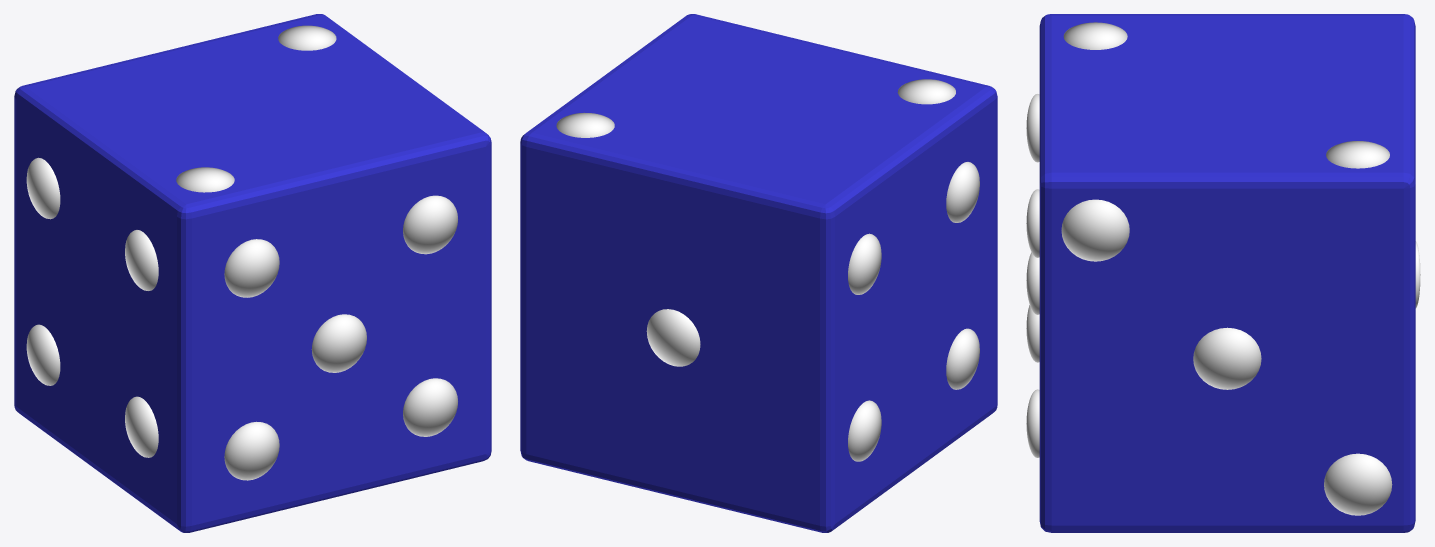
File: Dice.fbx
3 renders of one model, left to right at view 1: azimuth 30°, elevation 25°; view 2: azimuth 150°, elevation 25°; view 3: azimuth 270°, elevation 25°, orthographic. The views are drawn at different scales.
Parts seen in each view (by area): view 1: imagetostl_mesh0, imagetostl_mesh17, imagetostl_mesh21, imagetostl_mesh18, imagetostl_mesh20, imagetostl_mesh19, imagetostl_mesh14, imagetostl_mesh16, imagetostl_mesh13, imagetostl_mesh15, imagetostl_mesh3, imagetostl_mesh2; view 2: imagetostl_mesh0, imagetostl_mesh1, imagetostl_mesh15, imagetostl_mesh16, imagetostl_mesh13, imagetostl_mesh14, imagetostl_mesh3, imagetostl_mesh2; view 3: imagetostl_mesh0, imagetostl_mesh4, imagetostl_mesh6, imagetostl_mesh5, imagetostl_mesh3, imagetostl_mesh2, imagetostl_mesh19, imagetostl_mesh18, imagetostl_mesh20, imagetostl_mesh21, imagetostl_mesh17.
Part boxes in pixels (box(x1,y1,x2,y2)): imagetostl_mesh0: box(14, 14, 491, 532); imagetostl_mesh17: box(224, 421, 279, 480); imagetostl_mesh21: box(311, 314, 366, 372); imagetostl_mesh18: box(224, 239, 279, 297); imagetostl_mesh20: box(403, 378, 457, 436); imagetostl_mesh19: box(403, 195, 457, 254); imagetostl_mesh14: box(26, 324, 60, 385); imagetostl_mesh16: box(26, 157, 60, 219); imagetostl_mesh13: box(125, 396, 158, 457); imagetostl_mesh15: box(125, 230, 158, 290); imagetostl_mesh3: box(176, 167, 234, 192); imagetostl_mesh2: box(278, 25, 336, 50); imagetostl_mesh0: box(520, 14, 997, 532); imagetostl_mesh1: box(646, 309, 700, 366); imagetostl_mesh15: box(946, 162, 979, 222); imagetostl_mesh16: box(848, 233, 881, 294); imagetostl_mesh13: box(946, 328, 979, 389); imagetostl_mesh14: box(848, 400, 881, 461); imagetostl_mesh3: box(897, 79, 955, 104); imagetostl_mesh2: box(556, 112, 614, 137); imagetostl_mesh0: box(1039, 14, 1415, 532); imagetostl_mesh4: box(1061, 199, 1129, 261); imagetostl_mesh6: box(1193, 327, 1261, 389); imagetostl_mesh5: box(1324, 453, 1392, 515); imagetostl_mesh3: box(1063, 22, 1127, 49); imagetostl_mesh2: box(1326, 141, 1389, 168); imagetostl_mesh19: box(1026, 189, 1039, 257); imagetostl_mesh18: box(1026, 94, 1039, 162); imagetostl_mesh20: box(1026, 389, 1039, 457); imagetostl_mesh21: box(1026, 252, 1039, 314); imagetostl_mesh17: box(1026, 305, 1039, 362).
Size of the model in its own units: 2.29e+07 by 2.28e+07 by 2.16e+07.
